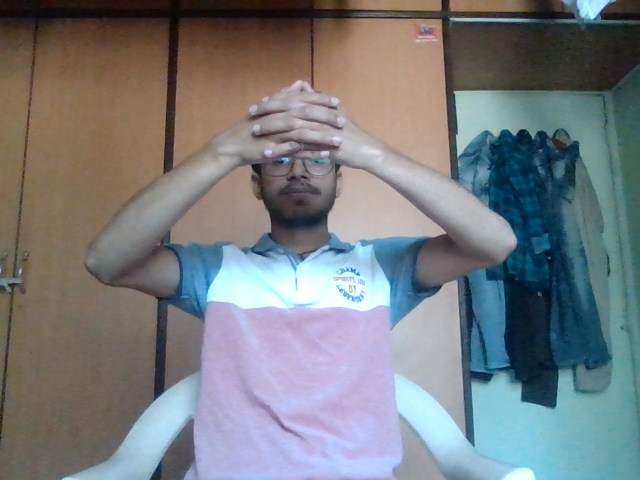good: (235, 76, 377, 184)
